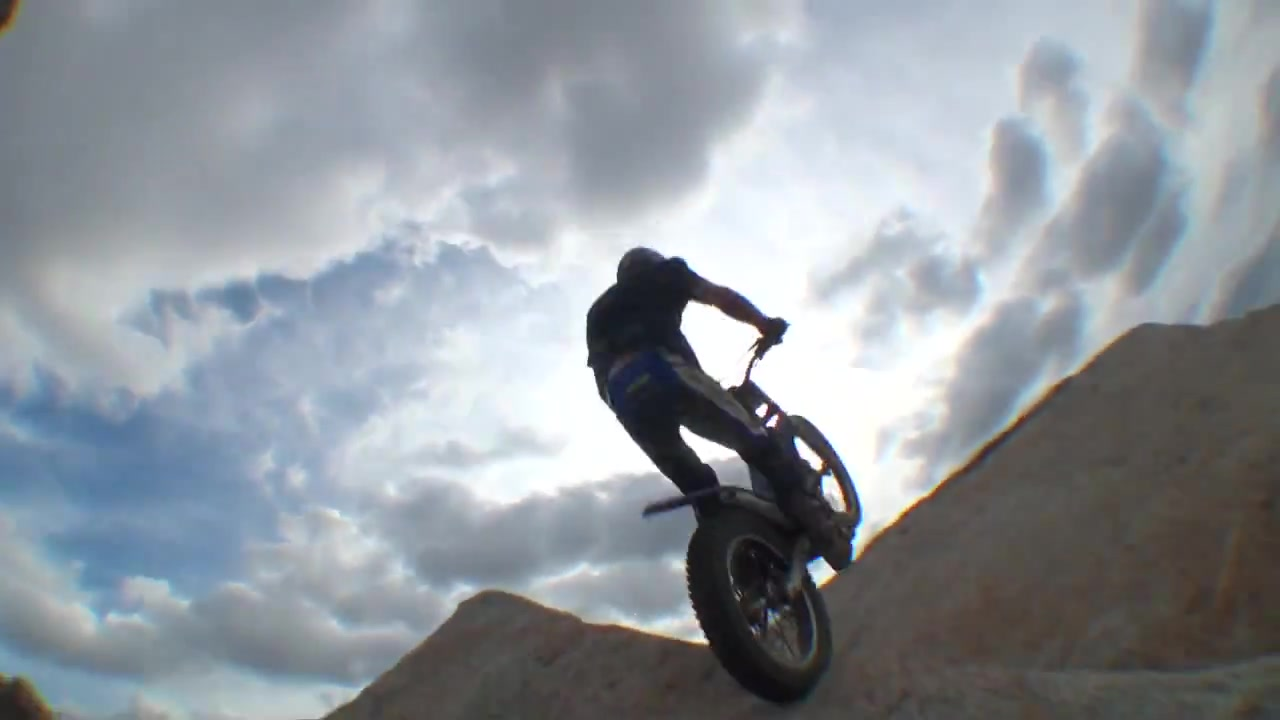motorbike: (639, 335, 864, 711)
